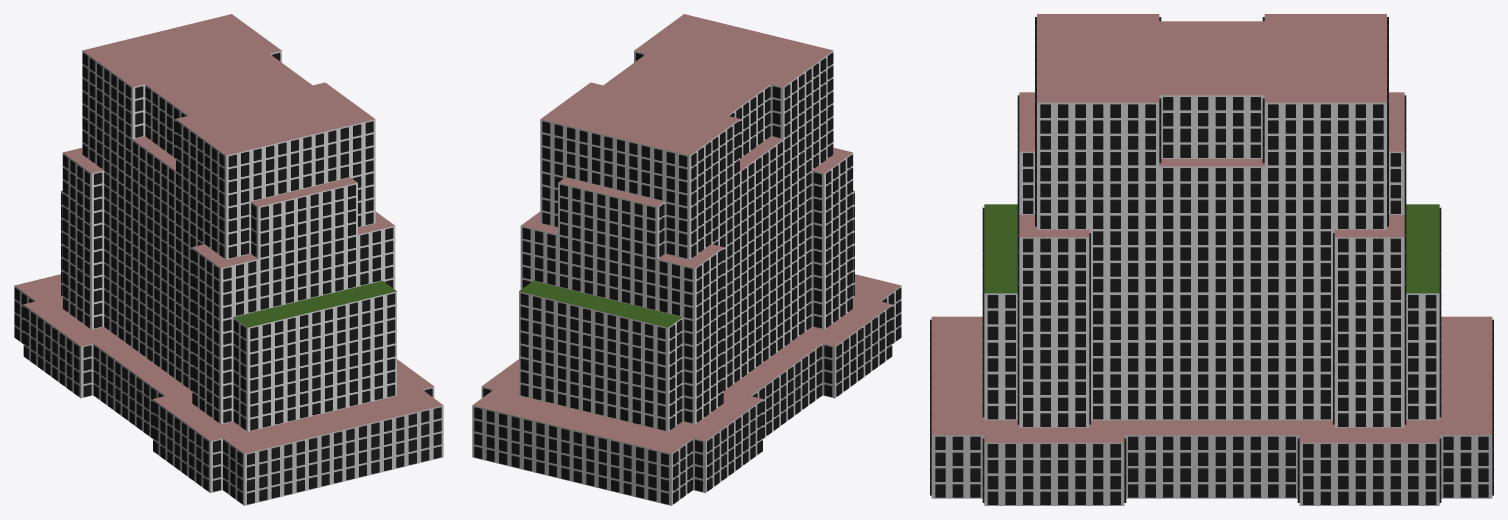
File: buildingBase.fbx
The picture shows the model from 3 angles, left to right: view 1: azimuth 30°, elevation 25°; view 2: azimuth 150°, elevation 25°; view 3: azimuth 270°, elevation 25°; orthographic projection. The views are drawn at different scales.
Parts seen in each view (by area): view 1: Base2-Windows, Base2, FirstLayer-Top, Base-Windows, Base, Base-Top, FirstLayer-Windows, Base3-Windows, FirstLayer, Base3, Base2-Top2, Base2-Top (+1 smaller); view 2: Base2-Windows, Base2, FirstLayer-Top, Base-Windows, Base, Base-Top, FirstLayer-Windows, Base3-Windows, FirstLayer, Base3, Base2-Top2, Base2-Top (+1 smaller); view 3: Base2-Windows, Base2, FirstLayer-Top, Base-Windows, Base-Top, Base, Base3-Windows, FirstLayer-Windows, Base3, FirstLayer, Base2-Top2, Base3-Top (+1 smaller).
Boxes of the visible parts, box(x1,y1,x2,y2) form: Base2-Windows: box(61, 155, 395, 430); Base2: box(61, 152, 396, 431); FirstLayer-Top: box(82, 14, 374, 155); Base-Windows: box(14, 288, 441, 504); Base: box(14, 286, 443, 505); Base-Top: box(14, 274, 442, 453); FirstLayer-Windows: box(82, 53, 373, 206); Base3-Windows: box(82, 105, 373, 258); FirstLayer: box(82, 50, 375, 207); Base3: box(82, 103, 375, 259); Base2-Top2: box(61, 190, 396, 327); Base2-Top: box(63, 148, 394, 267); Base2-Windows: box(520, 155, 854, 430); Base2: box(519, 152, 854, 431); FirstLayer-Top: box(541, 14, 833, 155); Base-Windows: box(474, 288, 901, 504); Base: box(472, 286, 901, 505); Base-Top: box(473, 274, 901, 453); FirstLayer-Windows: box(542, 53, 833, 206); Base3-Windows: box(542, 105, 833, 258); FirstLayer: box(540, 50, 833, 207); Base3: box(540, 103, 833, 259); Base2-Top2: box(519, 190, 854, 327); Base2-Top: box(521, 148, 852, 267); Base2-Windows: box(982, 207, 1441, 426); Base2: box(984, 229, 1439, 427); FirstLayer-Top: box(1037, 14, 1386, 102); Base-Windows: box(930, 319, 1493, 504); Base-Top: box(931, 316, 1492, 442); Base: box(931, 435, 1492, 505); Base3-Windows: box(1017, 95, 1406, 228); FirstLayer-Windows: box(1035, 17, 1388, 165); Base3: box(1019, 151, 1404, 229); FirstLayer: box(1037, 95, 1386, 166); Base2-Top2: box(984, 204, 1439, 293); Base3-Top: box(1019, 92, 1404, 166).
Bounding box in the file's own units: 910 × 1200 × 1610.
